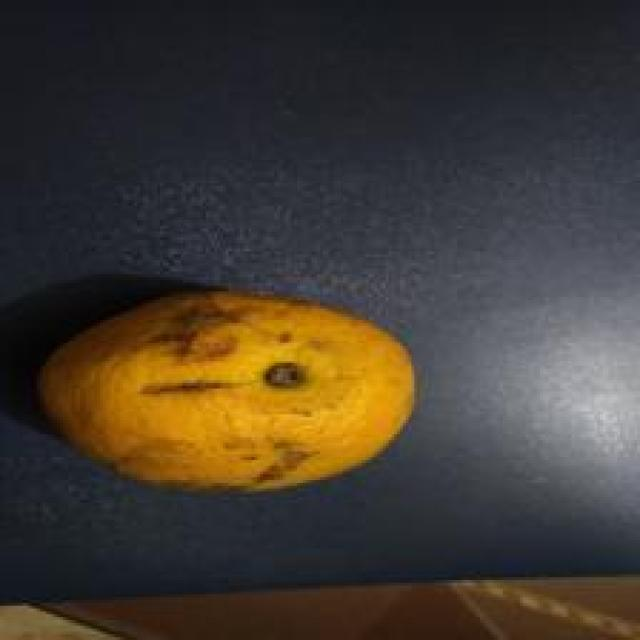overripe: (34, 293, 430, 493)
